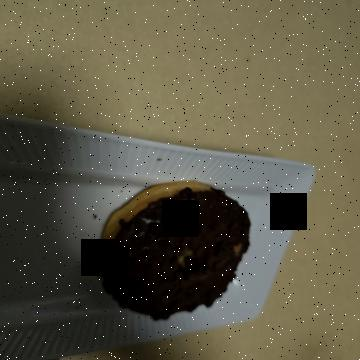doughnut: (171, 102, 325, 283)
